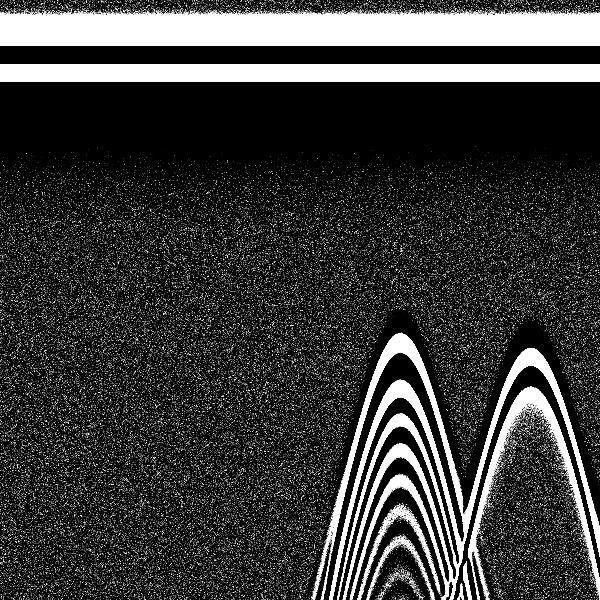pipe: (347, 10, 453, 429), (479, 4, 580, 425)
